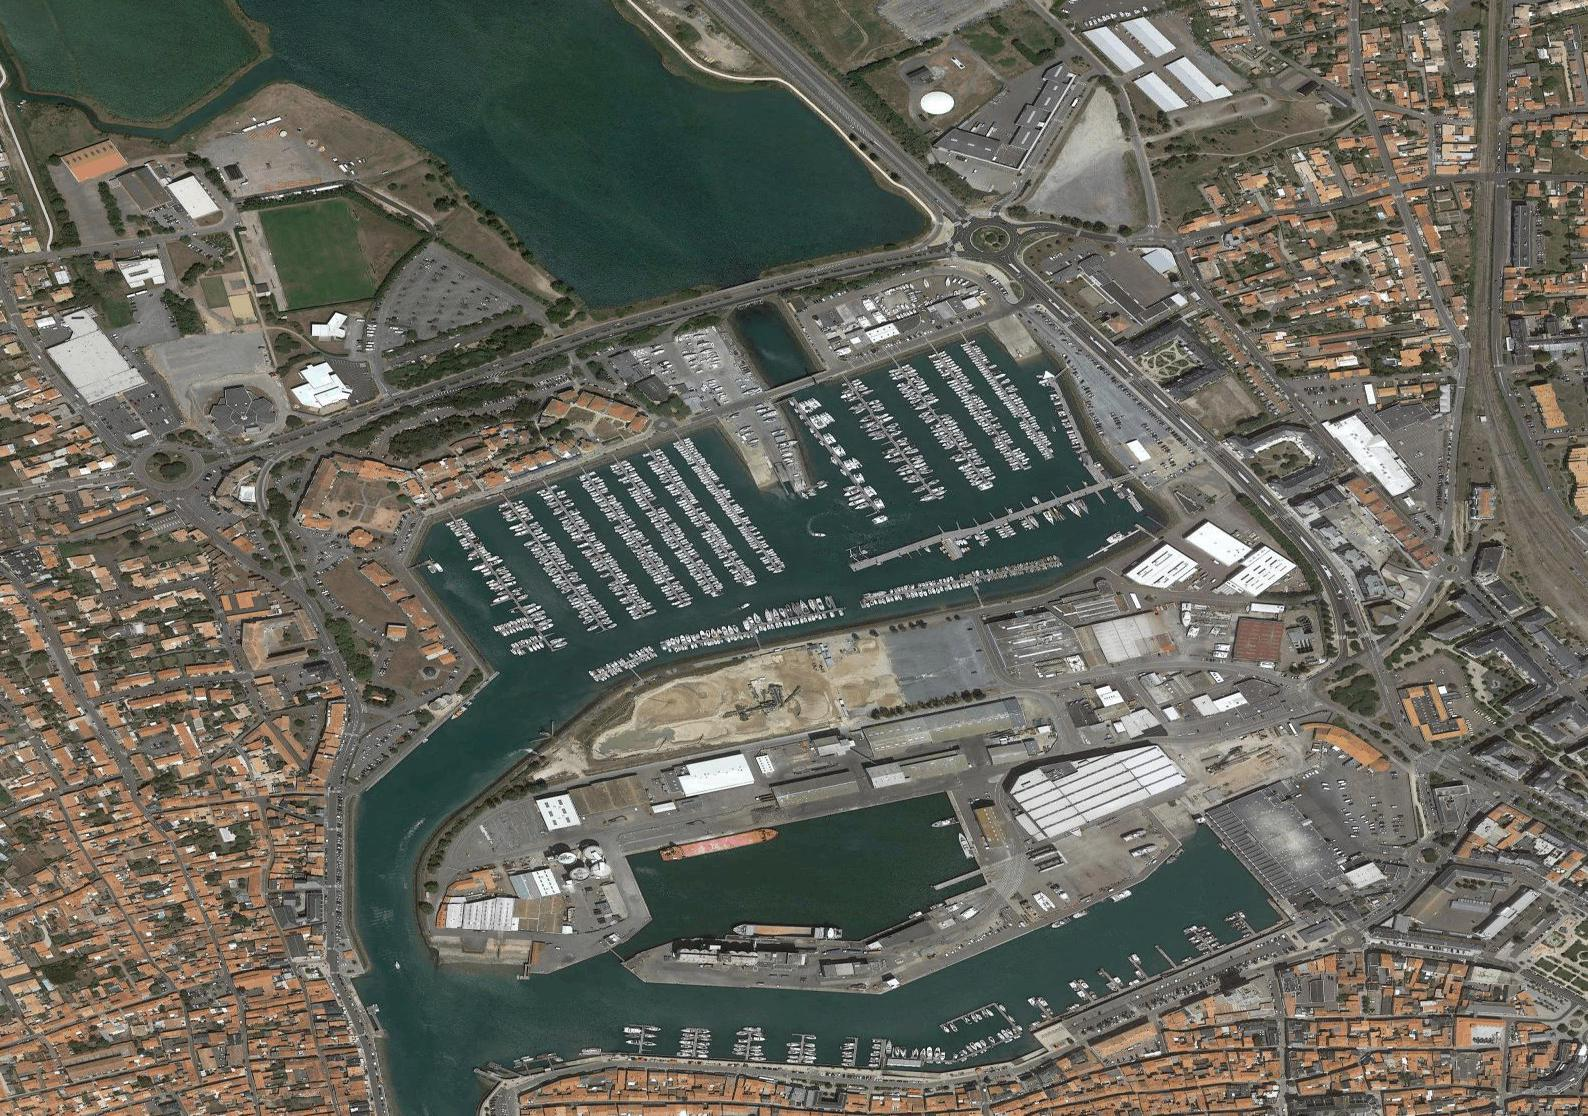harbor: (363, 331, 1272, 1077)
motorway: (1084, 327, 1240, 467), (1234, 463, 1367, 624), (953, 204, 1090, 329), (816, 91, 953, 214), (706, 1, 824, 94)
